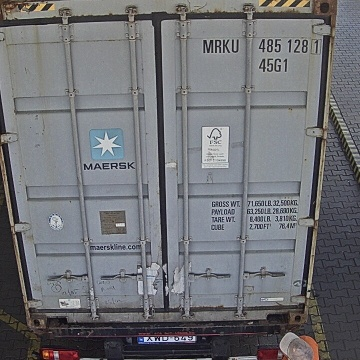serial_id: (203, 38, 321, 53)
